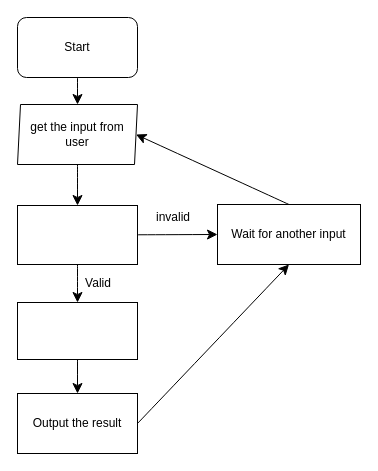
This 378x471 diagram has some shape labels left out. Here are the shapes that lost their labels. From the top down, the centre of each, then its label:
At pixel 77 234: "Verify the input".
At pixel 77 331: "Start generate".
